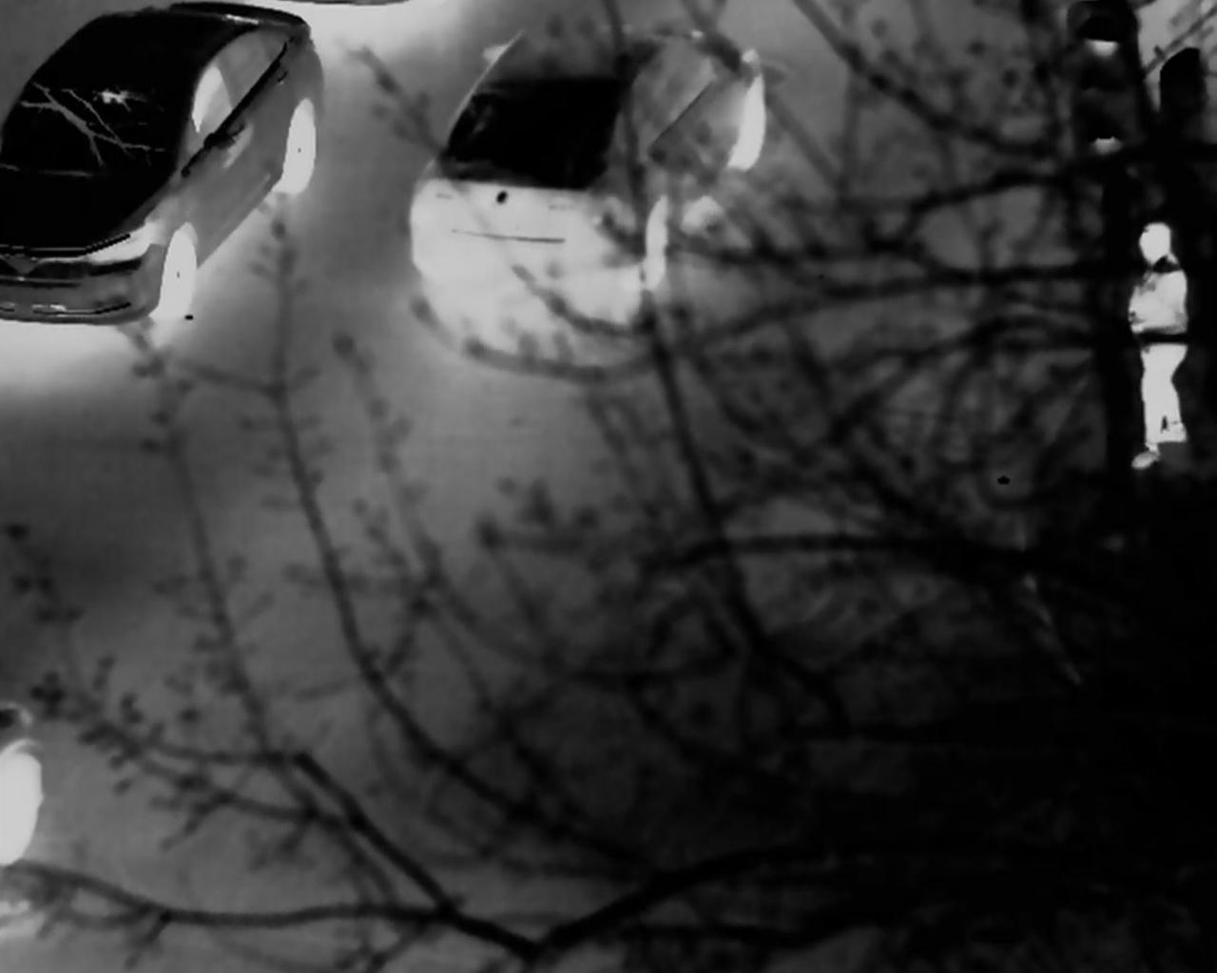person: (1130, 227, 1188, 464)
